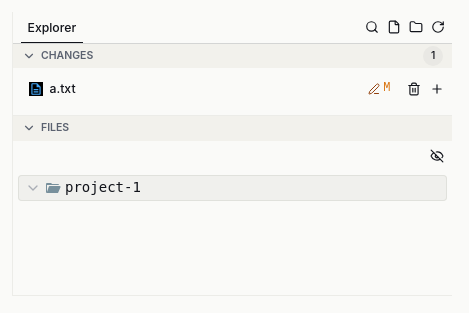
Scenario: ContextWorkbench › closes the diff view back to the Explorer surface
Click the button "a.txt M" at (36, 89), box [18, 71, 401, 107]
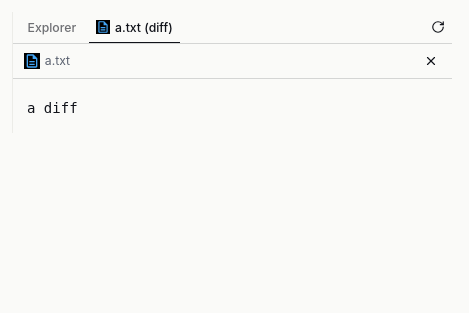
Result: the text "a diff" is shown at [13, 84, 452, 133]
Click the button named "Close diff" at (431, 60), box [420, 50, 442, 71]
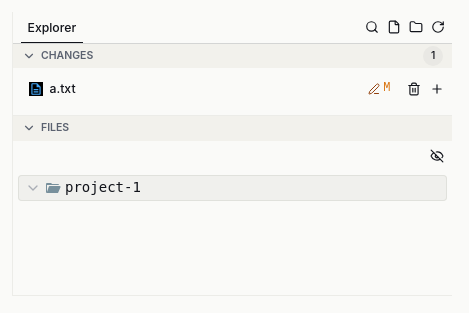
Result: the text "a diff" is gone
Result: the tab "a.txt (diff)" is gone
